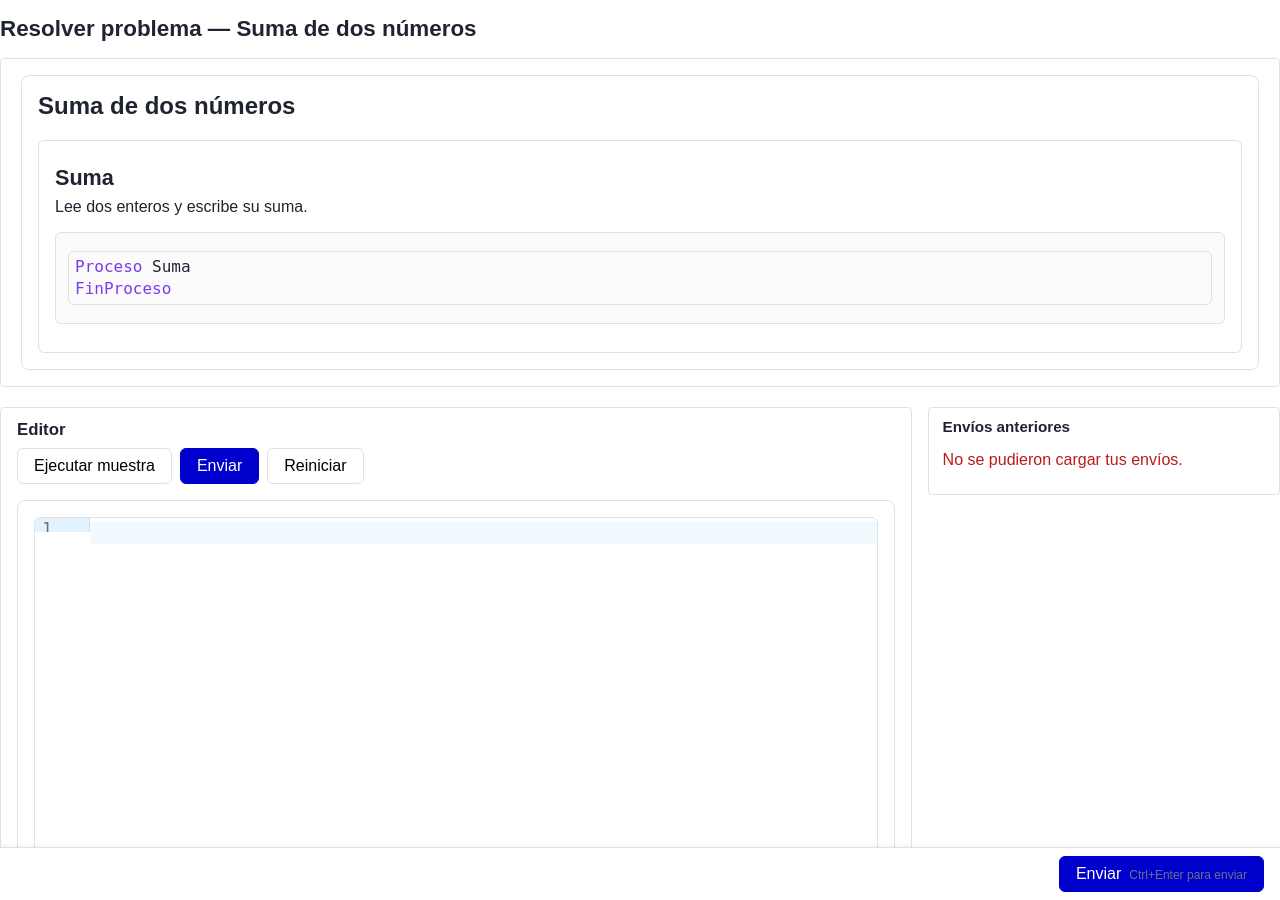
Test: practice sandbox › renders the compiler error in a <pre> block for a CE verdict
The width and height of the screenshot is (1280, 900).
Check: the heading "Suma de dos números" is shown, box [38,92,295,119]
Click the button "Ejecutar muestra": (94, 466) [17,448,172,484]
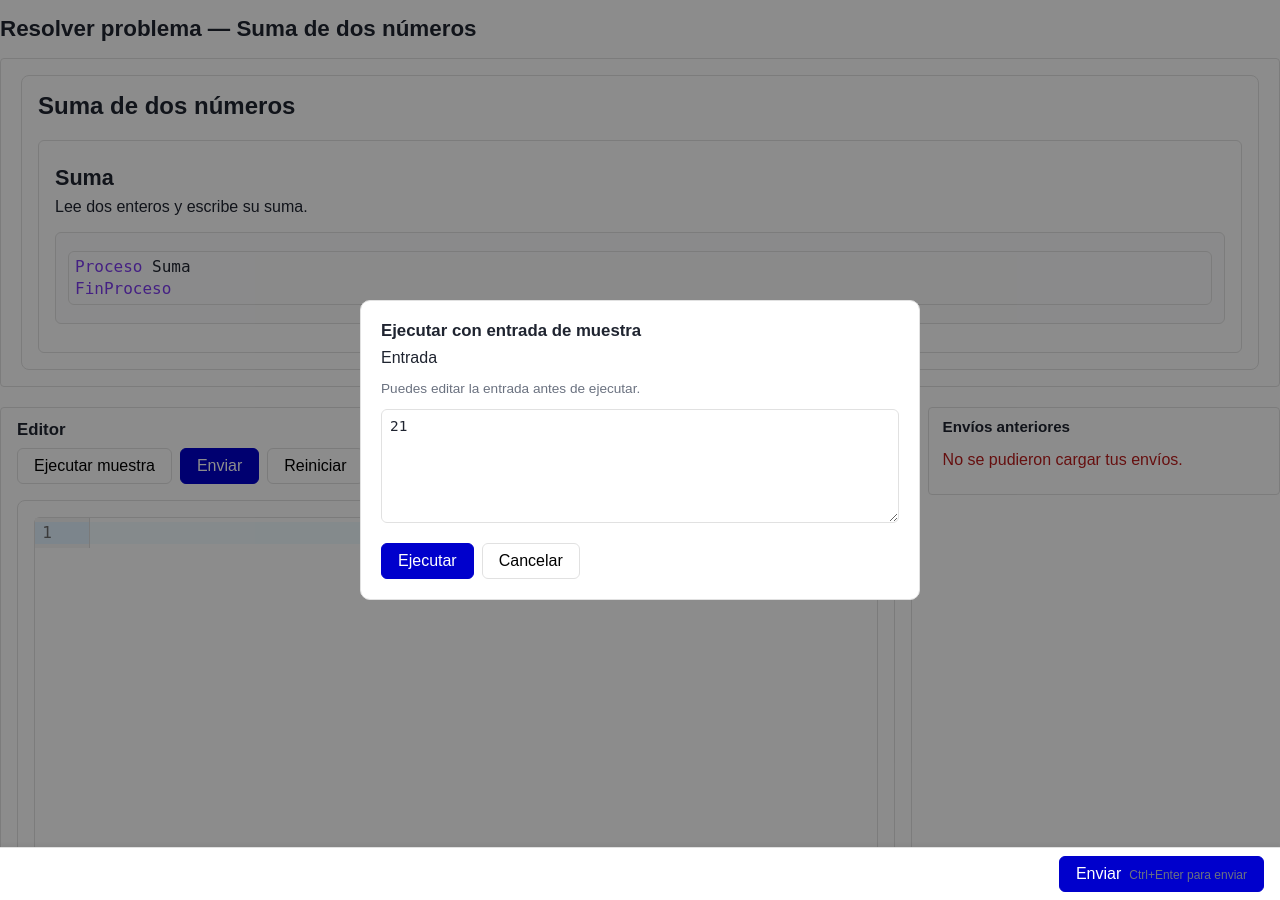
Check: the dialog is shown, box [360,300,920,600]
Click the button "Ejecutar": (427, 561) [381,543,474,579]
(page scrolled)
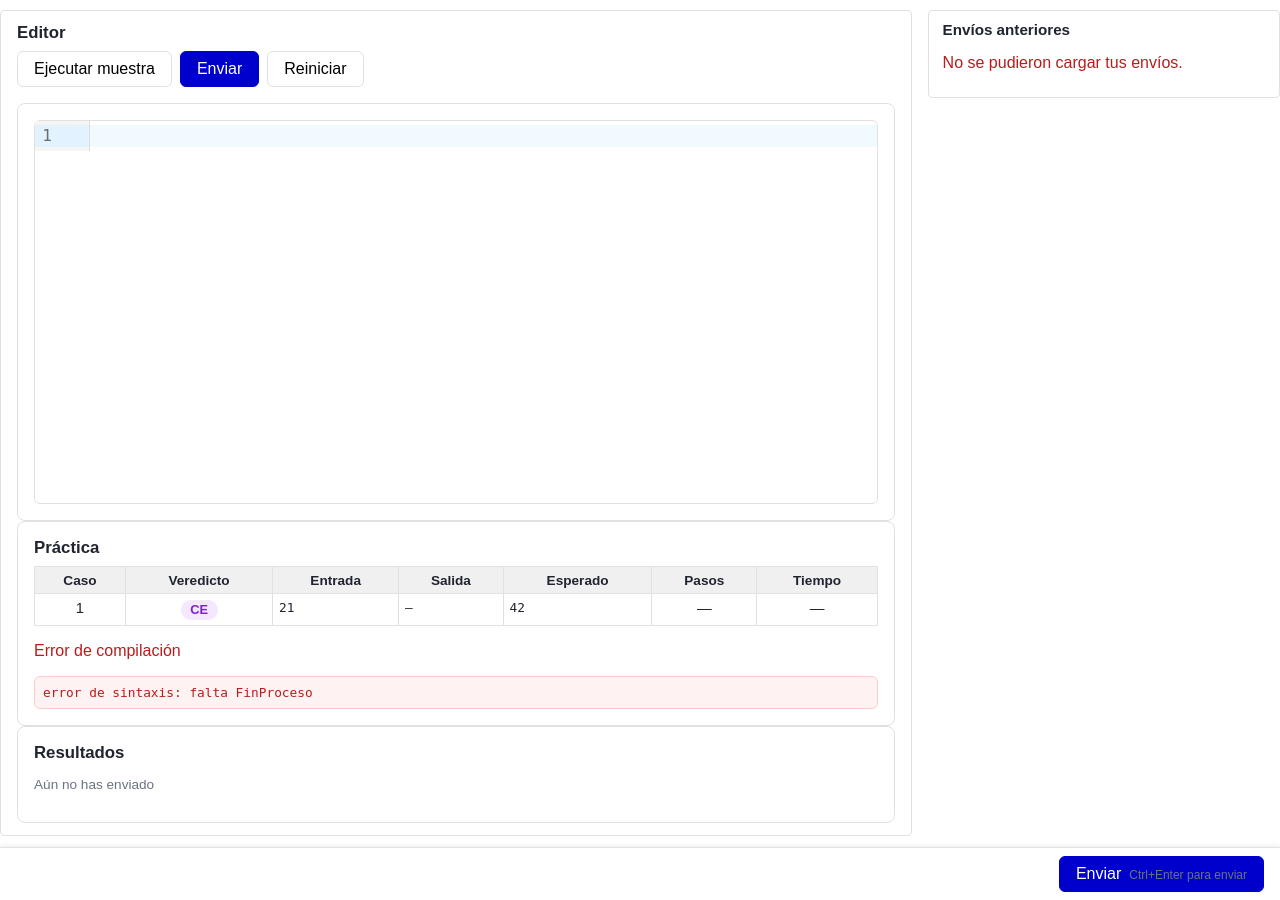
Check: the text "error de sintaxis: falta FinProceso" is shown, box [34,676,878,710]
